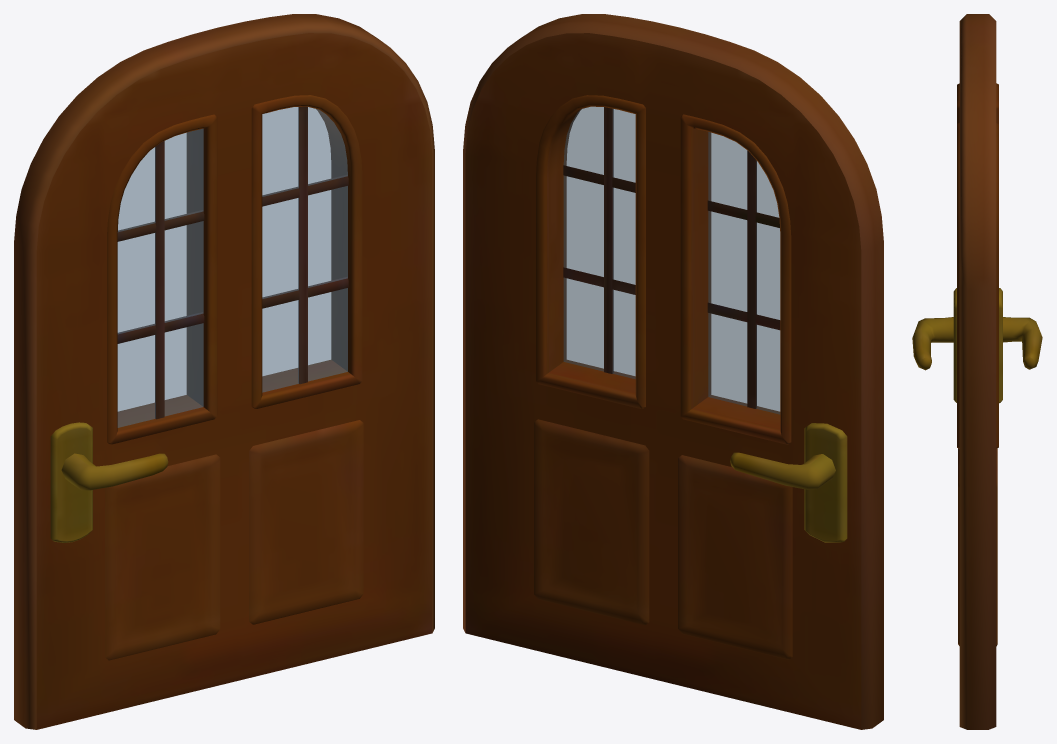
File: door-vertical-window-r.glb
3 renders of one model, left to right at view 1: azimuth 30°, elevation 25°; view 2: azimuth 150°, elevation 25°; view 3: azimuth 270°, elevation 25°, orthographic. The views are drawn at different scales.
Size of the model in its own units: 12 by 18 by 3.61.
2 materials, 1 textured.
